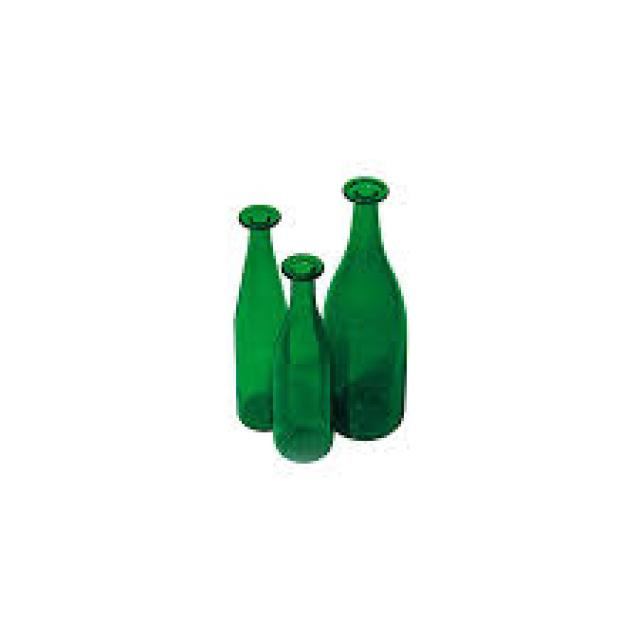glass: (318, 176, 404, 438), (270, 250, 333, 461), (231, 202, 285, 427)
